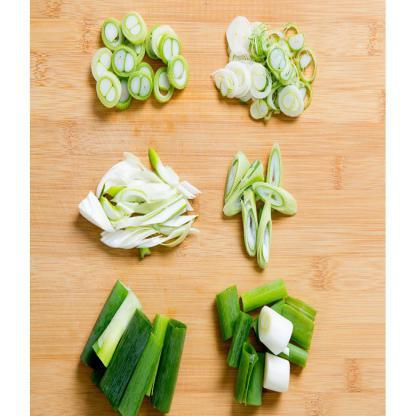green onion: (82, 304, 196, 416), (250, 171, 304, 224), (252, 310, 300, 358), (81, 6, 123, 52), (275, 87, 312, 125), (118, 10, 151, 47), (87, 83, 134, 108), (124, 67, 154, 104), (164, 60, 188, 88)
